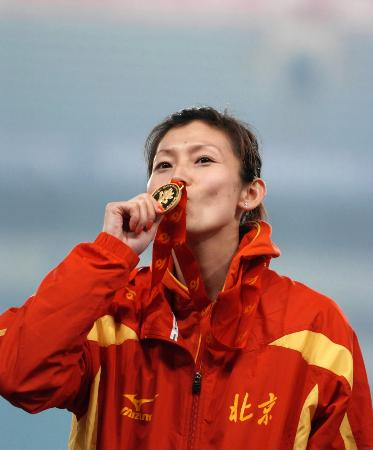face: (149, 120, 236, 234)
